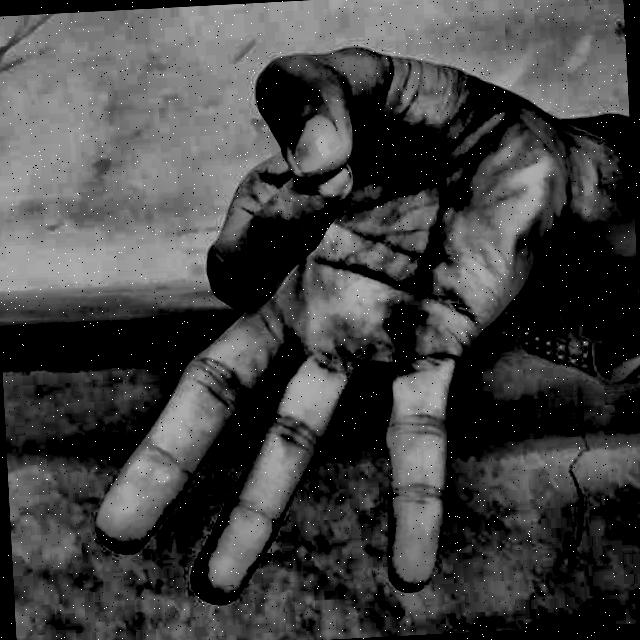Fa: (42, 24, 586, 635)
